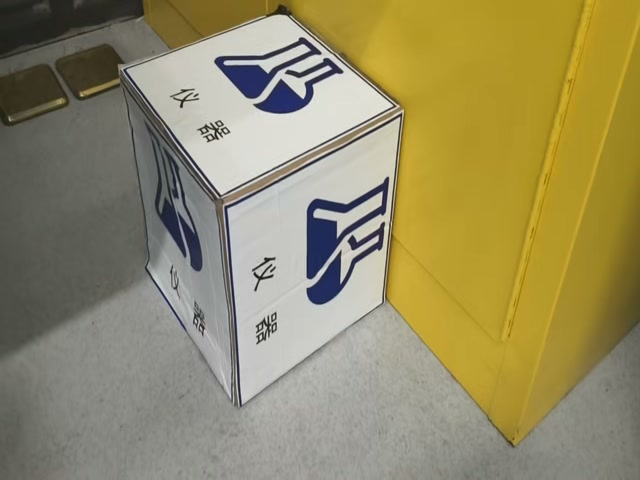Cube_ins: (118, 16, 403, 207)
